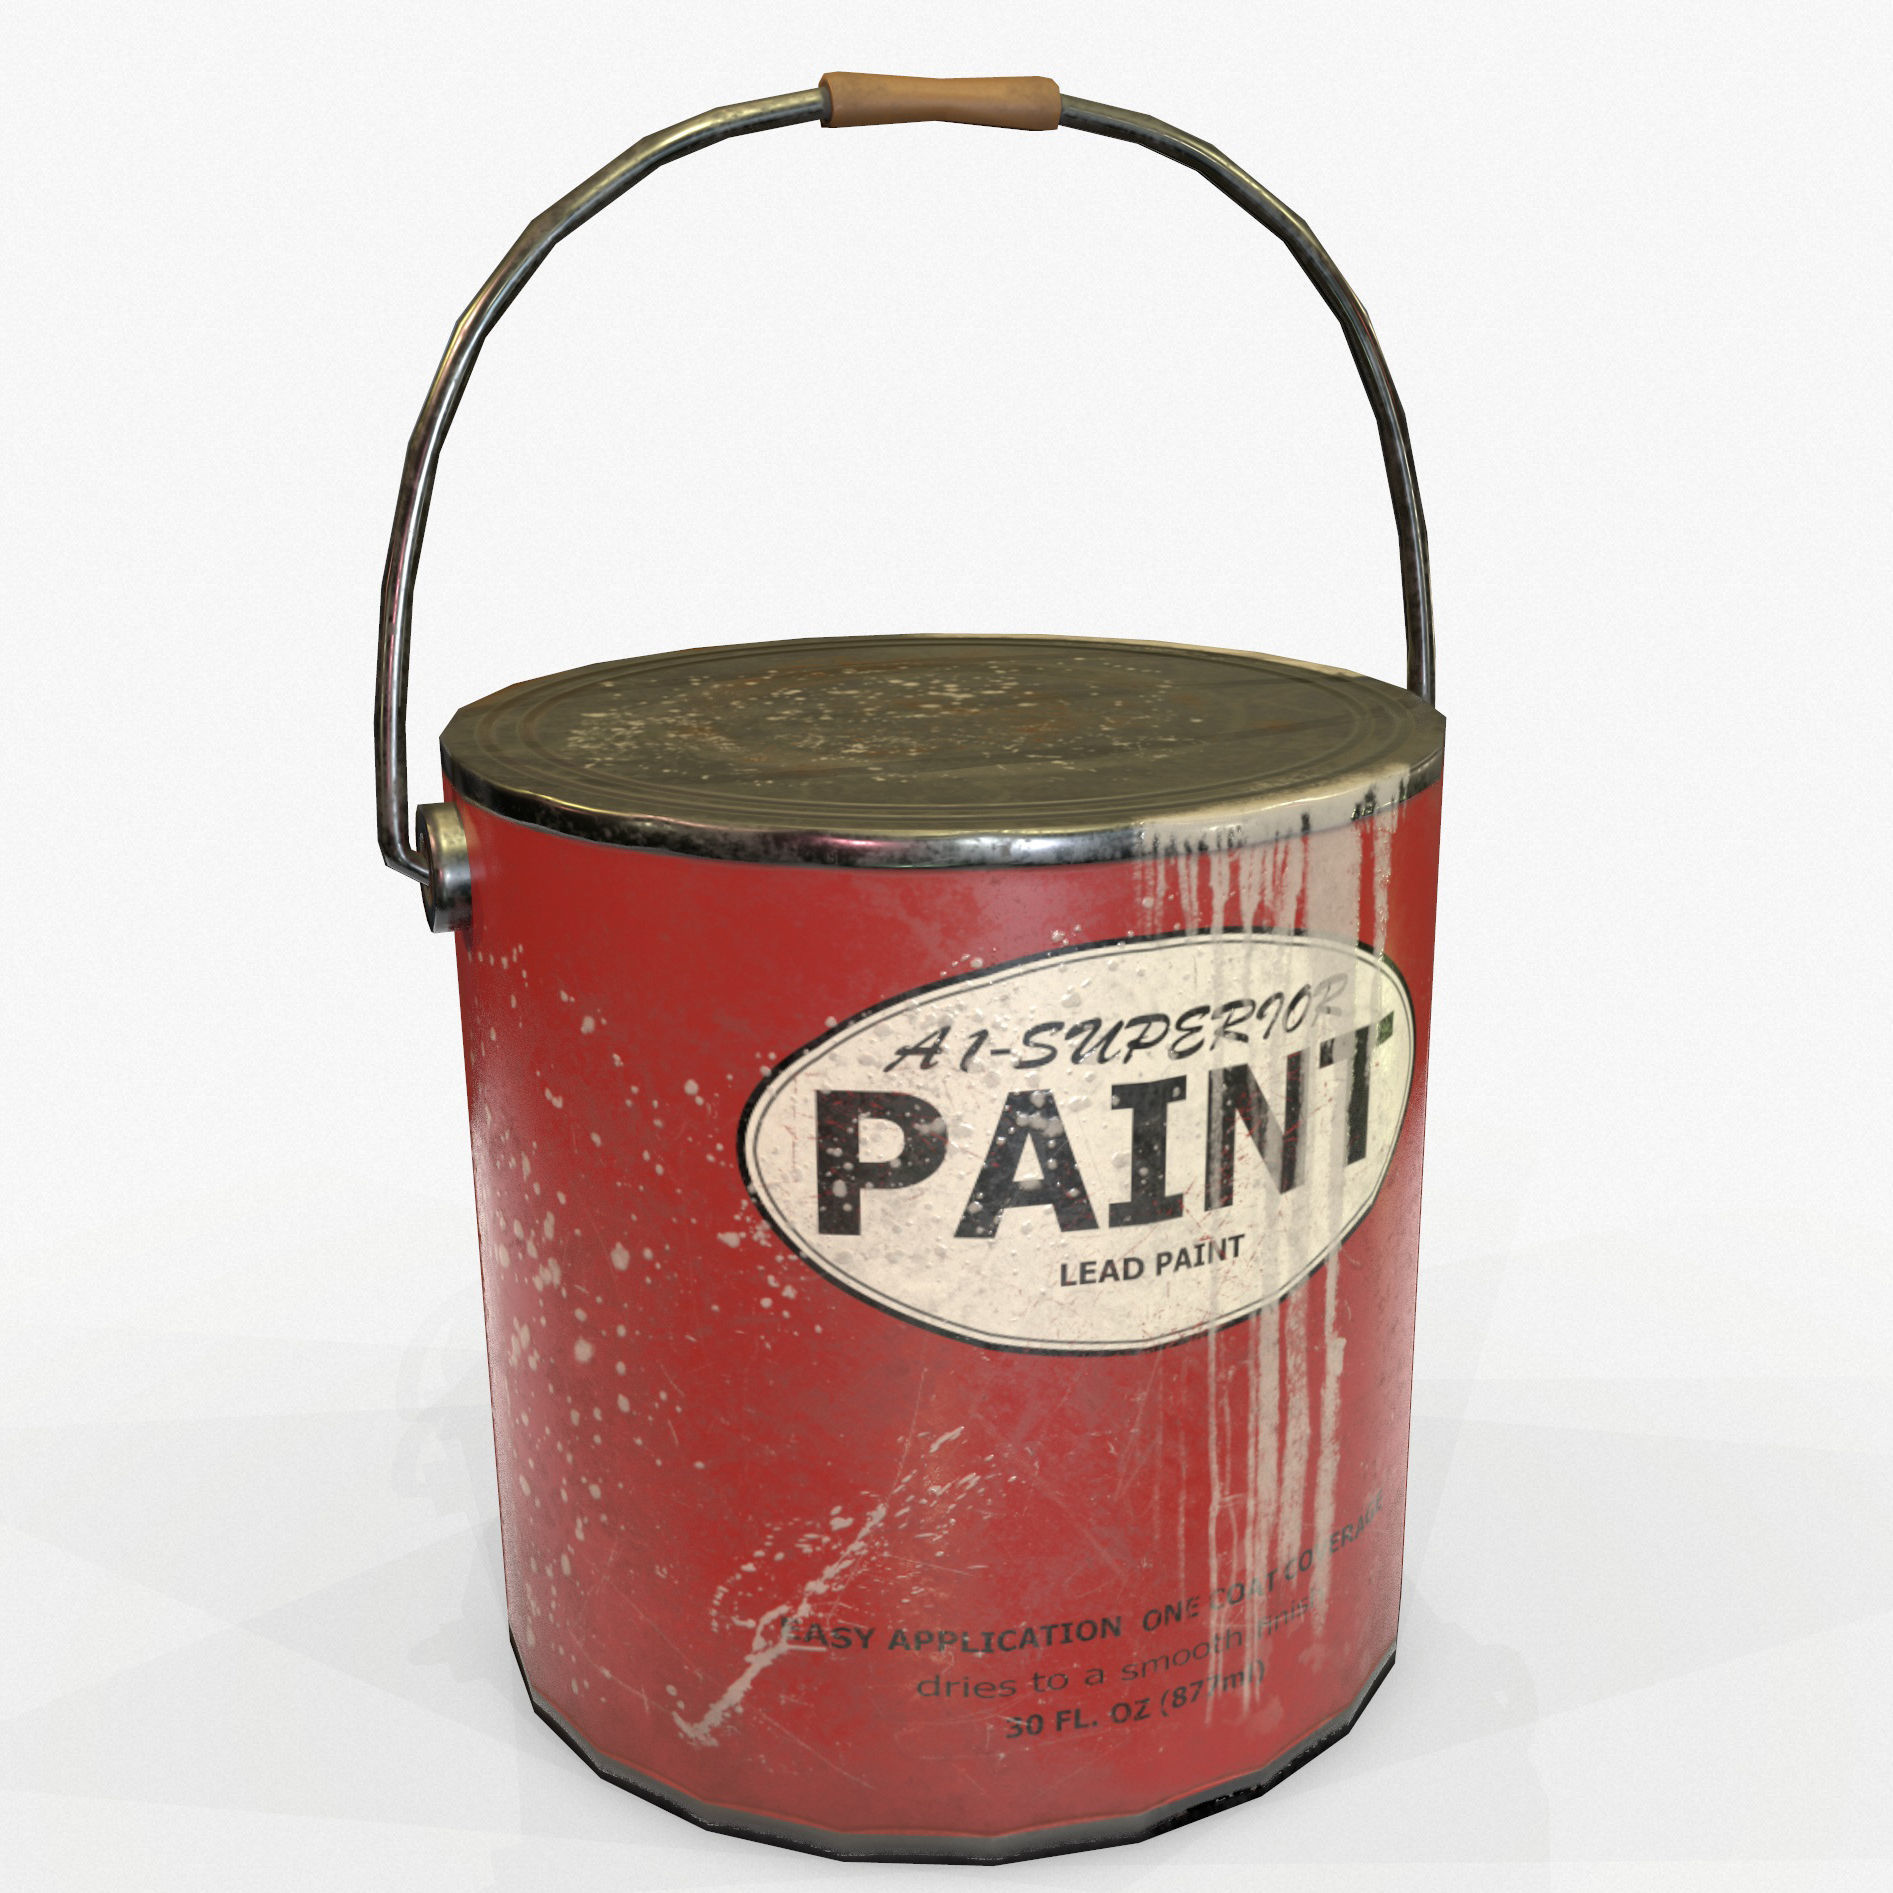Rec_Metal: (324, 62, 1460, 1858)
